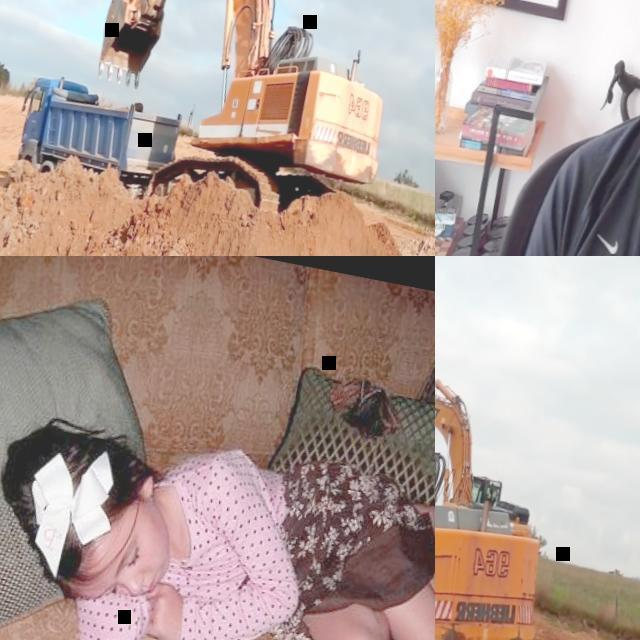machinery: (76, 0, 431, 237), (435, 280, 595, 640), (9, 70, 188, 199), (435, 361, 561, 539)
no_helmet: (12, 419, 153, 602)
no_mask: (136, 529, 176, 598)
no_vest: (159, 446, 292, 615), (540, 105, 640, 256)
person: (0, 392, 435, 640), (484, 0, 640, 256), (487, 483, 499, 501)
